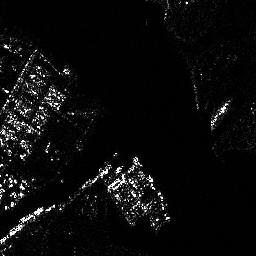ship: (209, 99, 232, 129)
